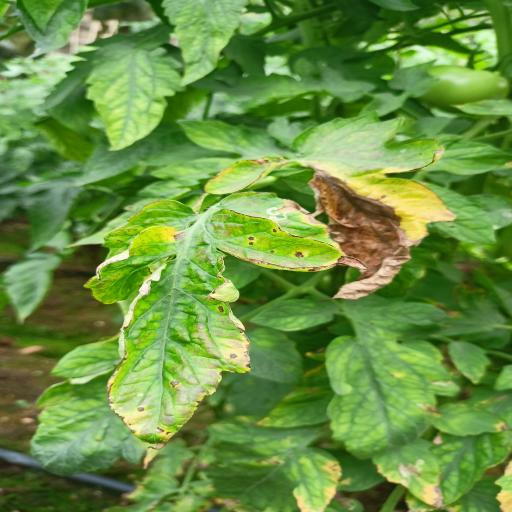Early Blight: (69, 188, 347, 453), (203, 110, 455, 301)
